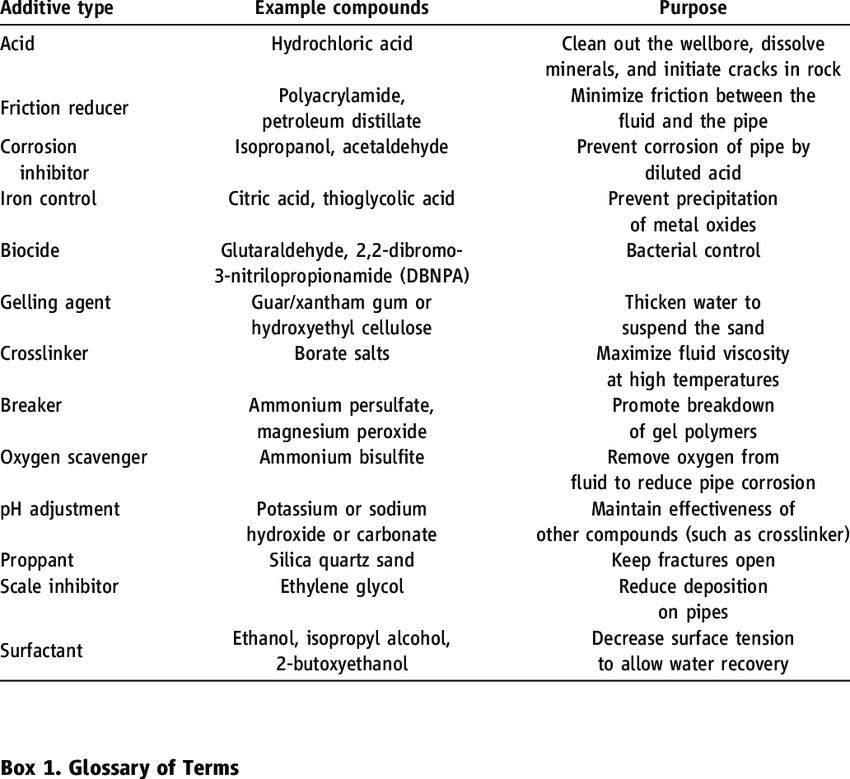fracking table: (2, 1, 849, 680)
